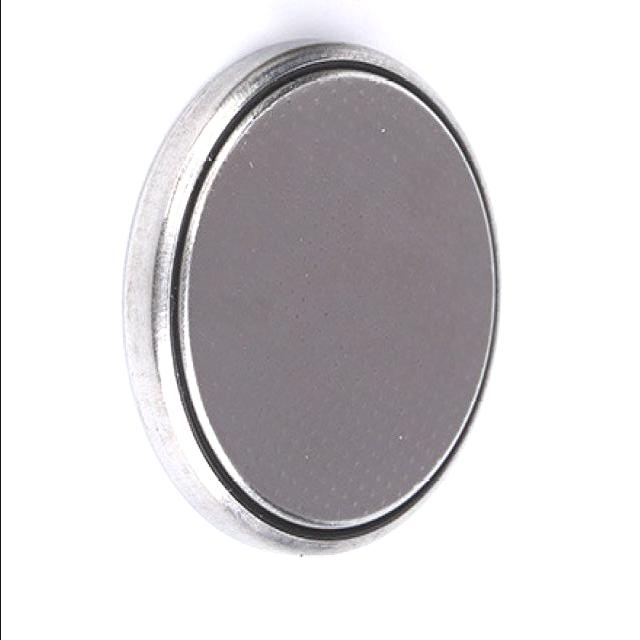COIN: (120, 38, 503, 556)
